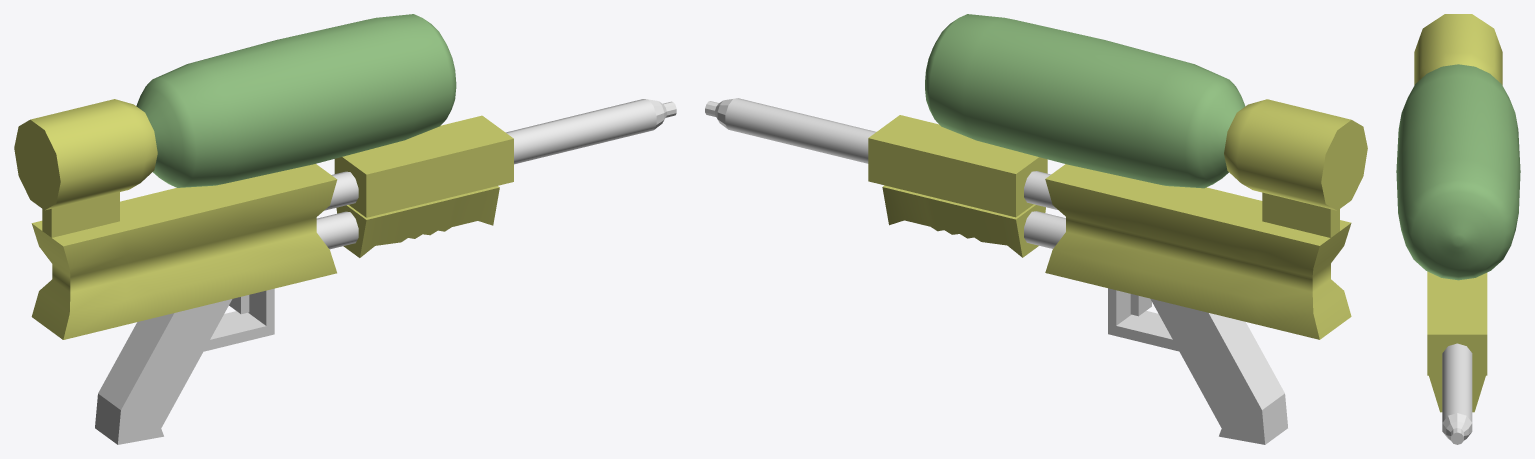
The model's file is WaterBlaster.fbx.
The picture shows the model from 3 angles, left to right: view 1: azimuth 30°, elevation 25°; view 2: azimuth 150°, elevation 25°; view 3: azimuth 270°, elevation 25°; orthographic projection. The views are drawn at different scales.
Parts seen in each view (by area): view 1: WaterGun; view 2: WaterGun; view 3: WaterGun.
Part boxes in pixels (x1,y1,x2,y2): WaterGun: (14,14,676,444); WaterGun: (705,14,1367,444); WaterGun: (1396,14,1520,444).
Bounding box in the file's own units: 200 × 106 × 35.8.
